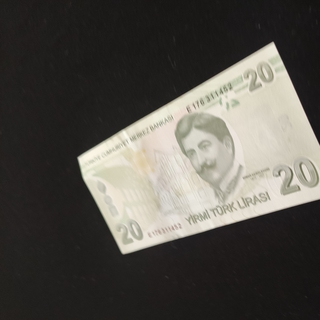20TLBack: (76, 40, 320, 255)
